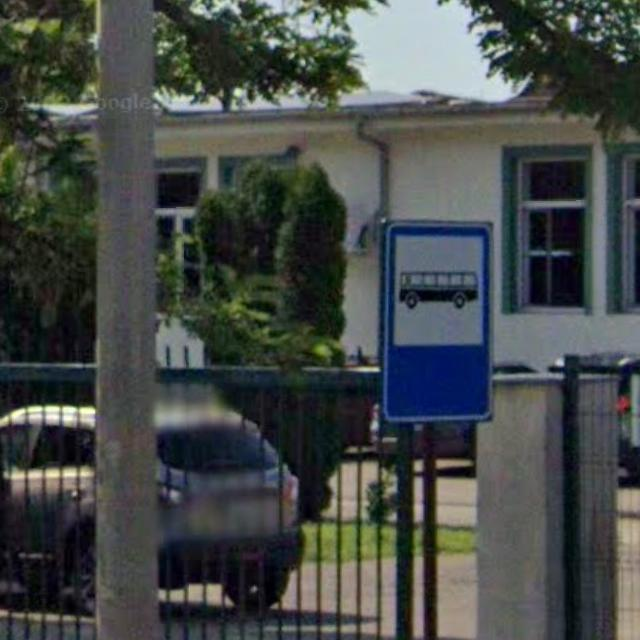info_bus_station: (379, 218, 493, 421)
